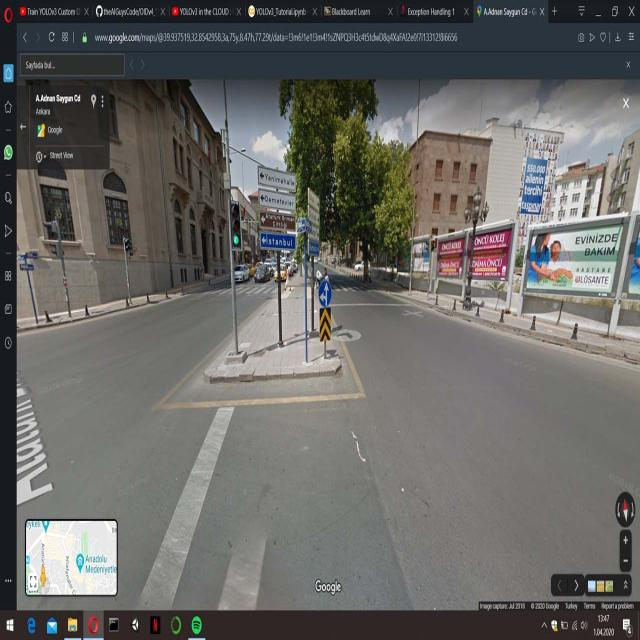ilerisol: (318, 280, 331, 307)
yesil: (229, 200, 242, 248)
